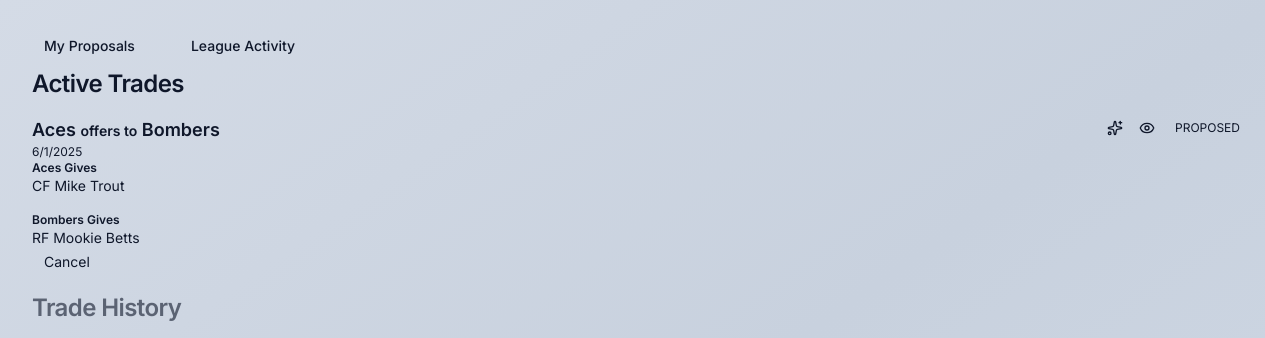
Test: TradesPage › switches to League Activity tab
Expected: the heading "Active Trades" is shown, [32,68,184,100]
Click the button "League Activity" at coordinates (243, 46), box [167,28,319,64]
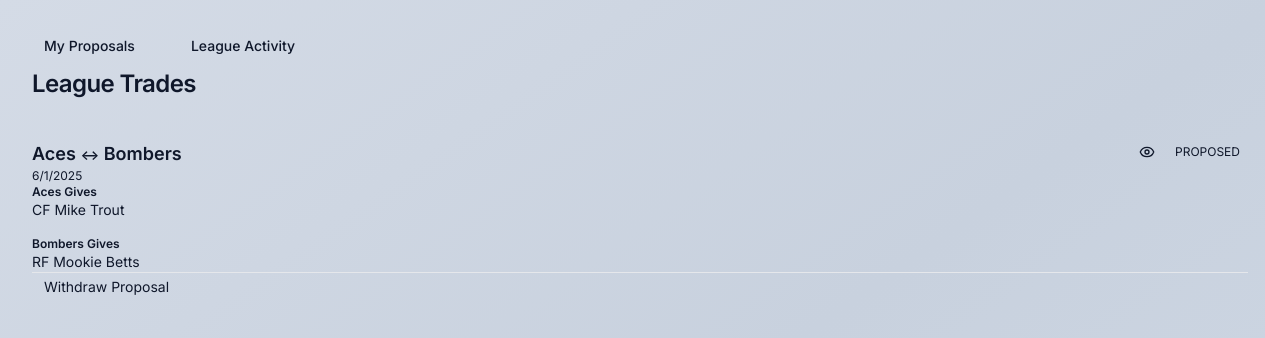
Result: the heading "League Trades" is shown at [32,68,196,100]
